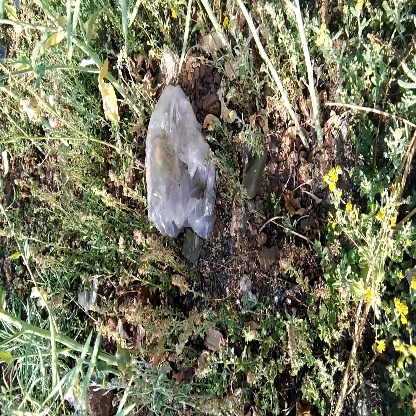plastic-bag: (140, 85, 222, 244)
